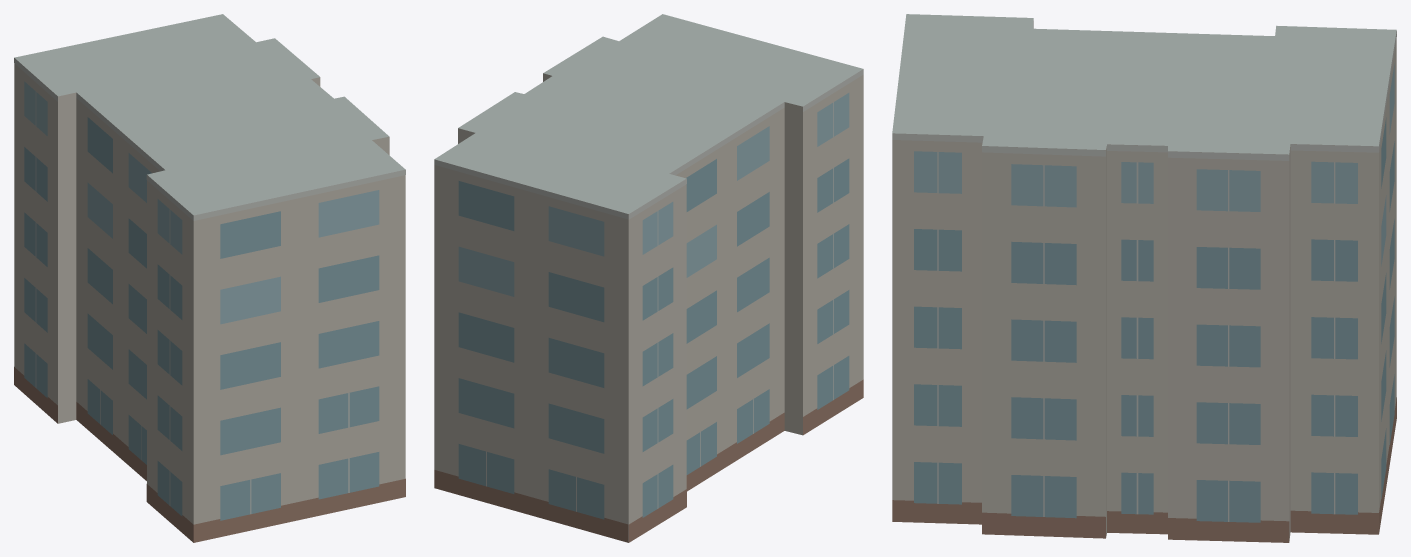
File: survey-upis-32933618.glb
The picture shows the model from 3 angles, left to right: view 1: azimuth 30°, elevation 25°; view 2: azimuth 150°, elevation 25°; view 3: azimuth 270°, elevation 25°; orthographic projection. The views are drawn at different scales.
Visible parts, largest first — view 1: survey-upis-32933618.tmp; view 2: survey-upis-32933618.tmp; view 3: survey-upis-32933618.tmp.
Boxes of the visible parts, x1,y1,x2,y2 form: survey-upis-32933618.tmp: (14,14,405,542); survey-upis-32933618.tmp: (434,14,863,542); survey-upis-32933618.tmp: (892,14,1396,542).
Size of the model in its own units: 11.26 by 14.5 by 17.08.
